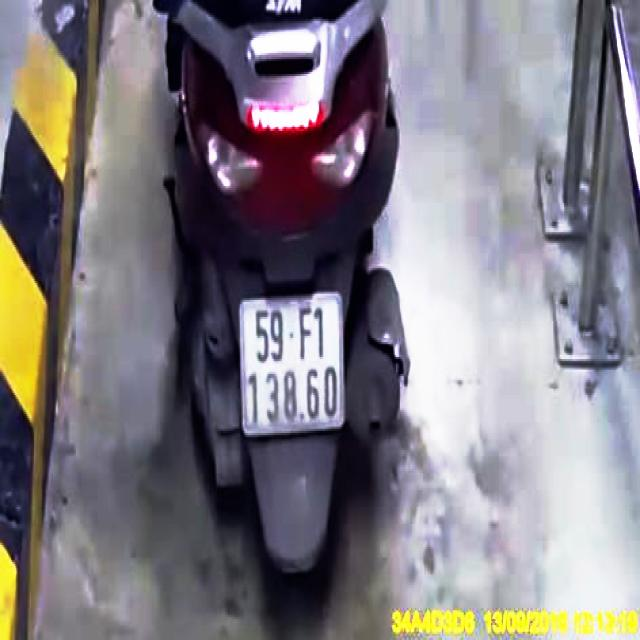license_plate: (242, 300, 341, 428)
